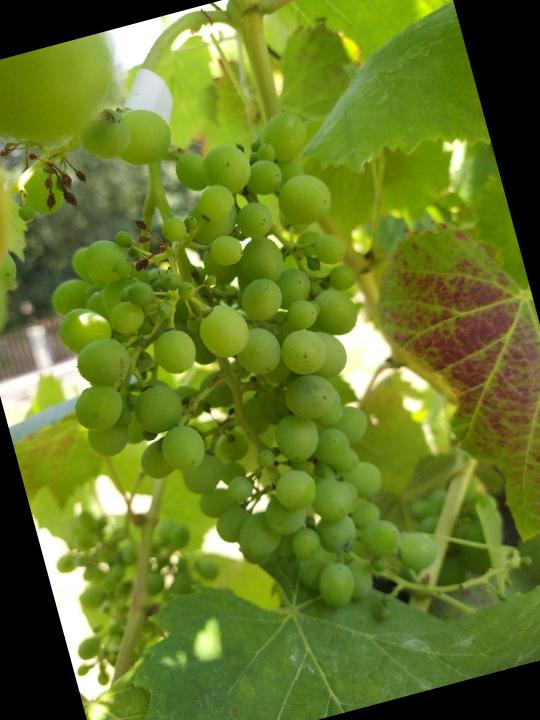grape: (10, 100, 449, 675)
